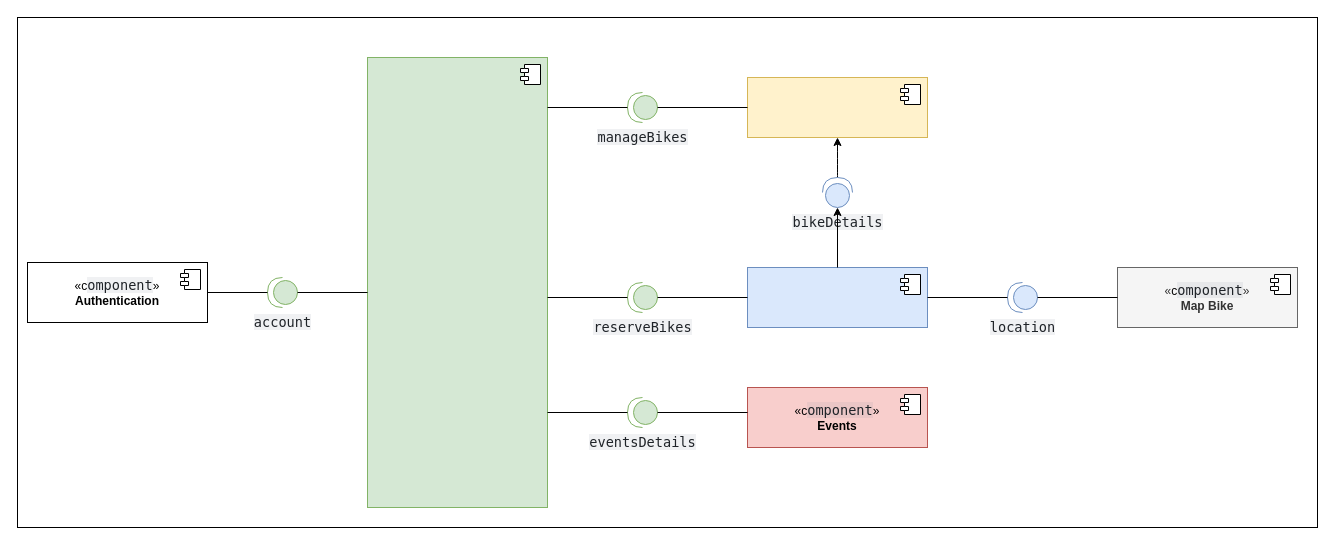
The diagram is 1335 pixels wide and 545 high, and some of its shapes have lost their labels. Each missing label, with the centre of its shape:
«c omponent » bike-crud: the point at 837,107
«c omponent » Rental Bike: the point at 837,297
«componet» Bike Network System: the point at 457,282
